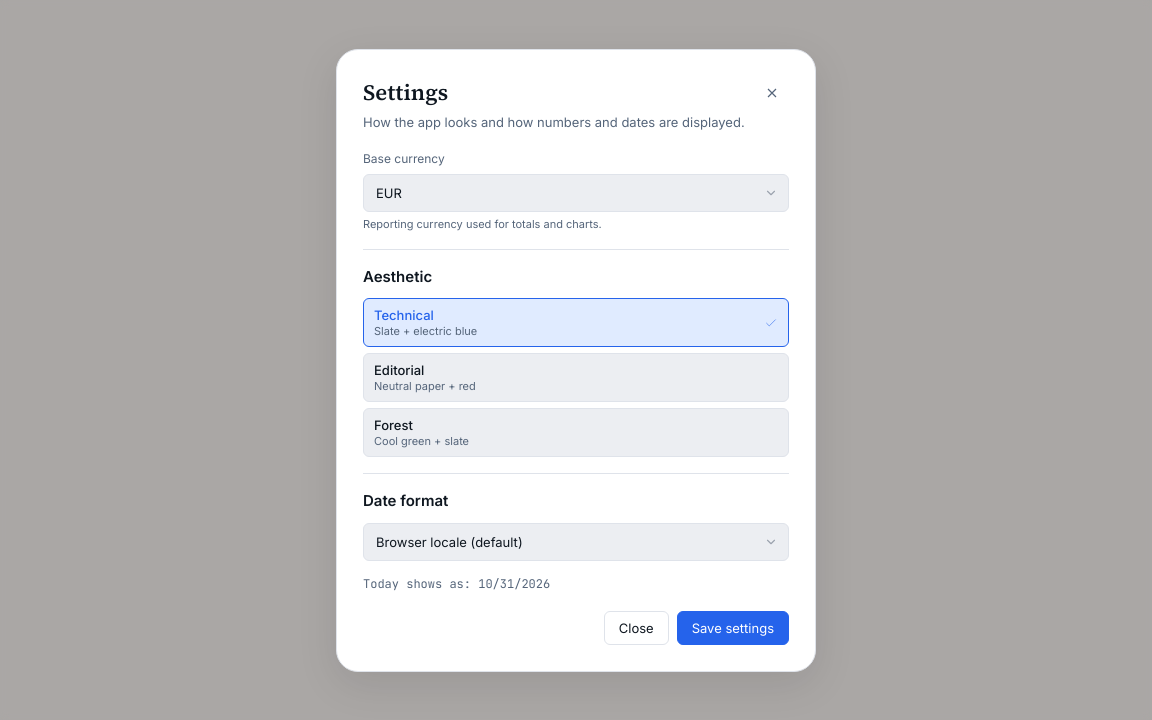
Test: SettingsModal — base currency › renders the API error and stays open on failure
Step 1. Select "USD" in the dropdown below "Base currency" → (576, 193), box [363,174,789,212]
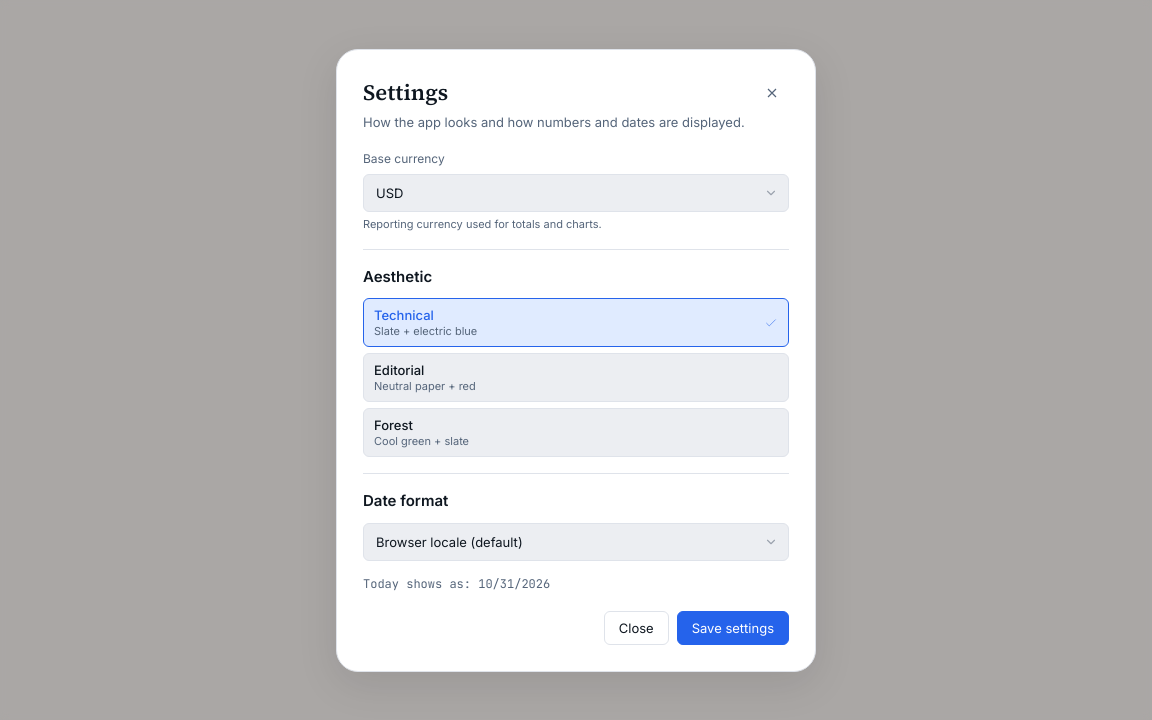
Step 2. Click the button "Save settings" → (733, 628), box [677,610,789,644]
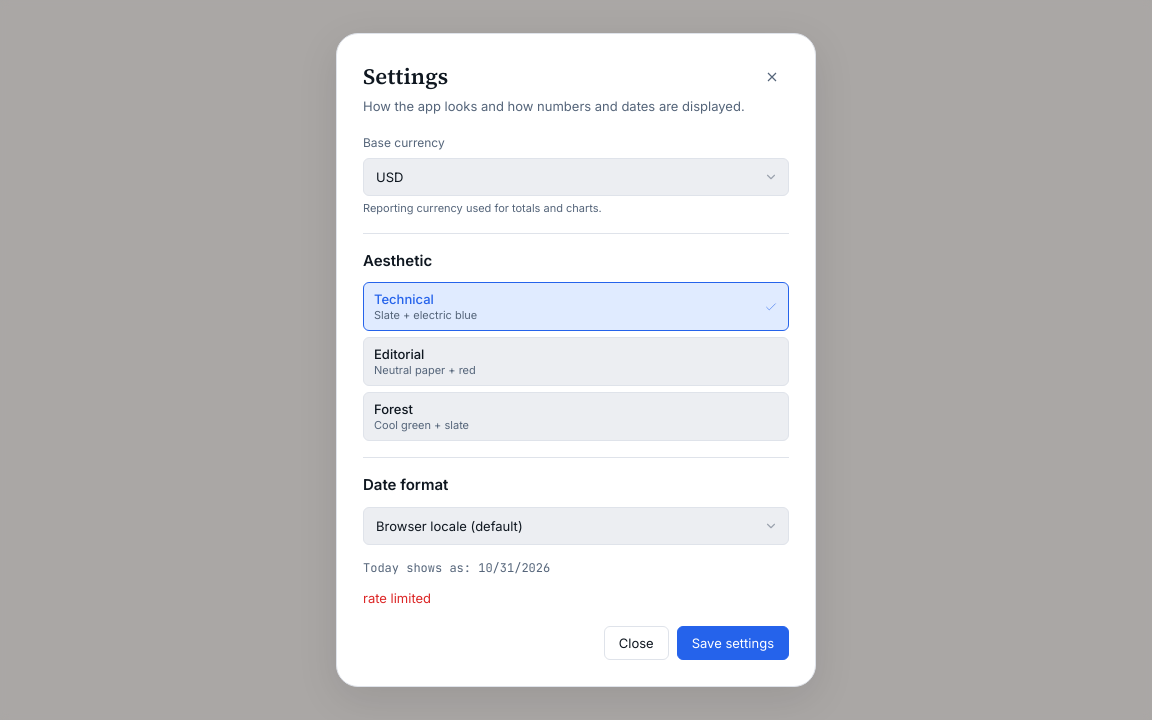
Check: the text "rate limited" is shown, box [363,590,431,606]
